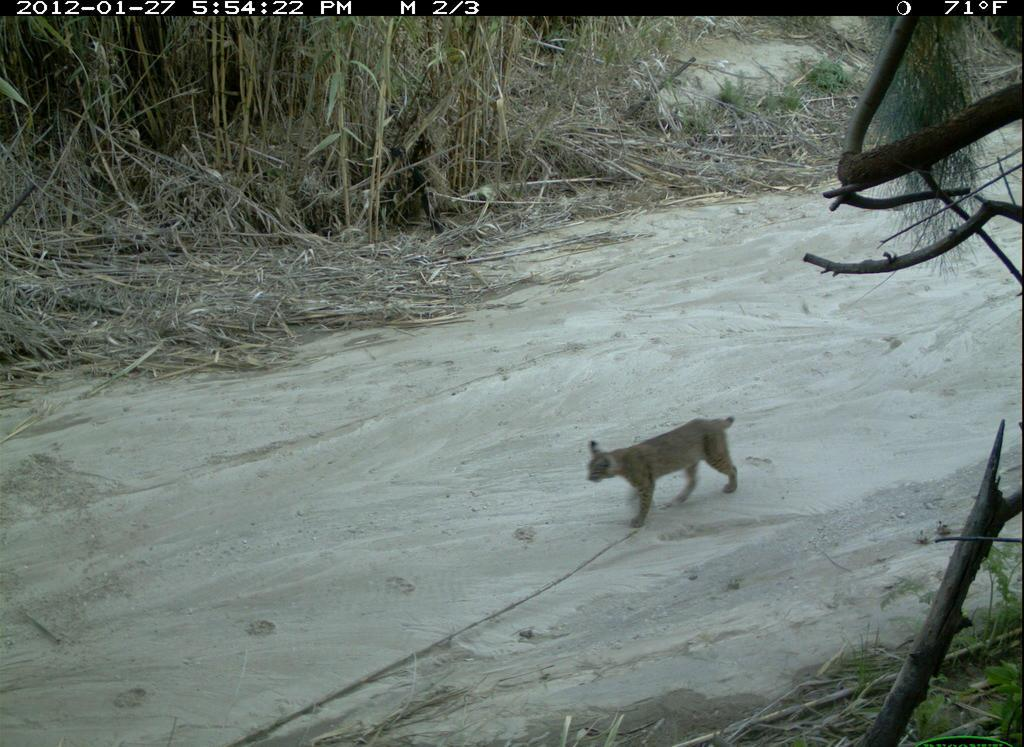bobcat: (584, 409, 745, 534)
